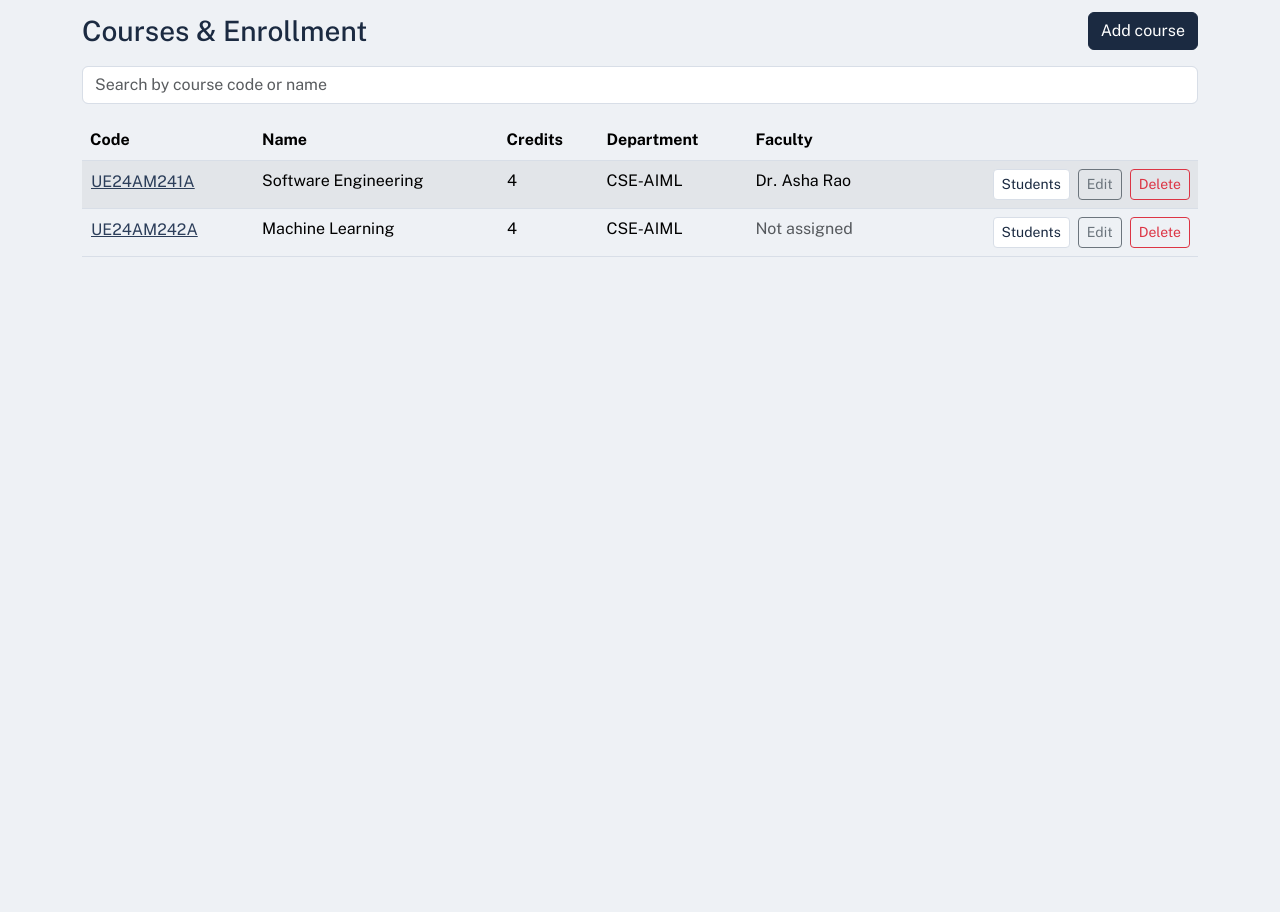
Enrollment panel (issue #12) › removes a student from the course
Click the button with aria-label "Students in UE24AM241A" at (1031, 184), box [992,169,1070,200]
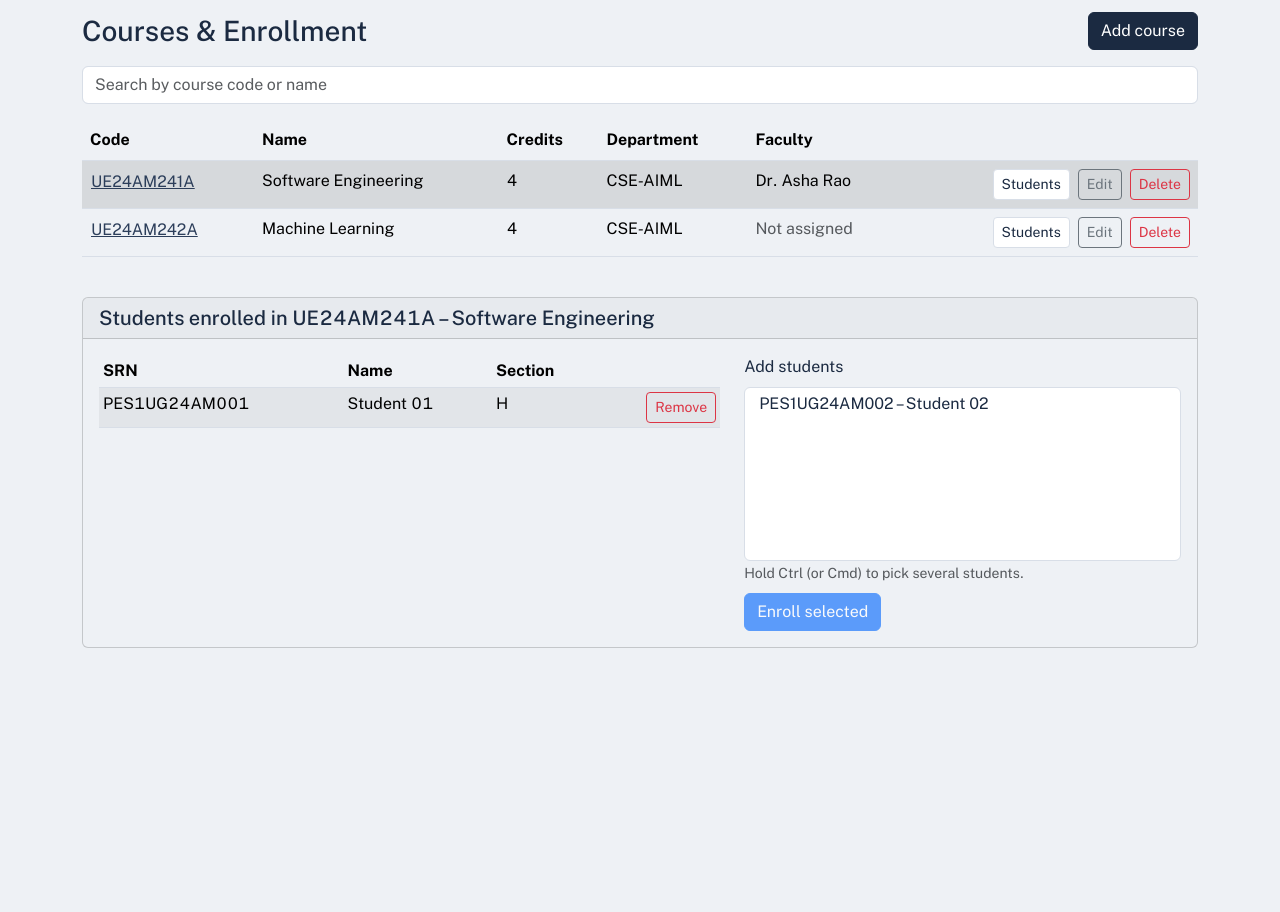
Click the button with aria-label "Remove PES1UG24AM001" at (681, 408), box [646,392,716,423]
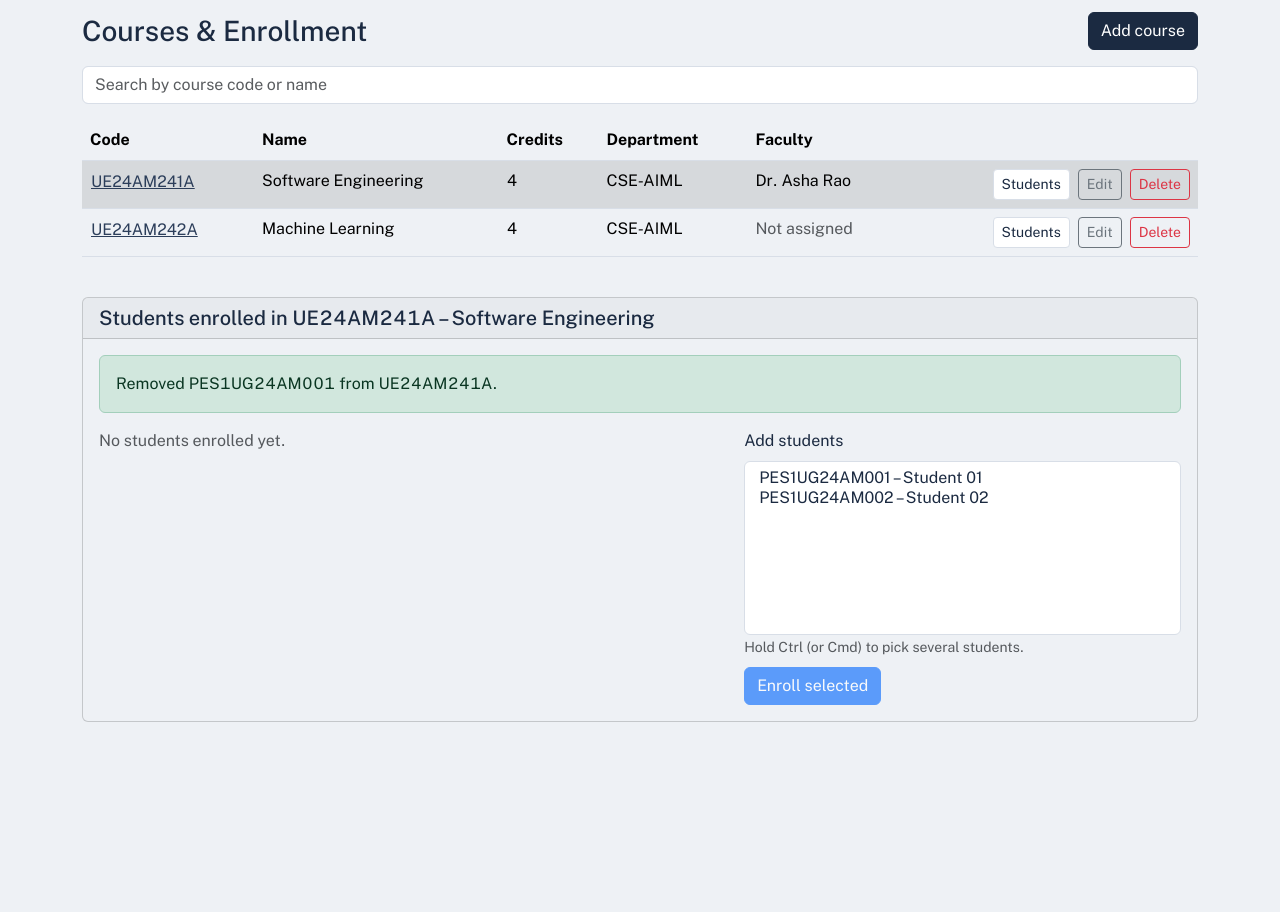
Expected: the text "Removed PES1UG24AM001 from UE24AM241A." is shown, [99,355,1181,413]
Expected: the text "No students enrolled yet." is shown, [99,431,286,450]
